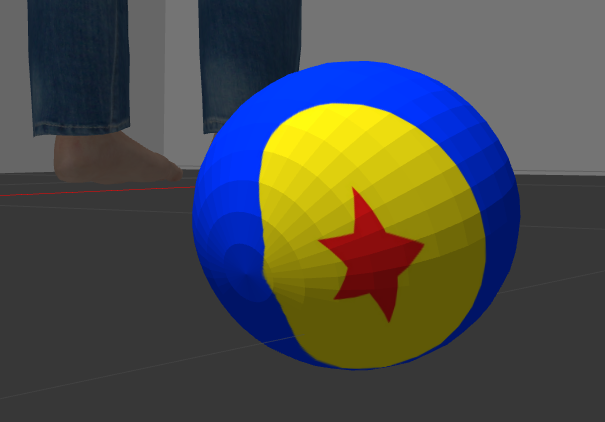toy story ball: (192, 61, 521, 369)
